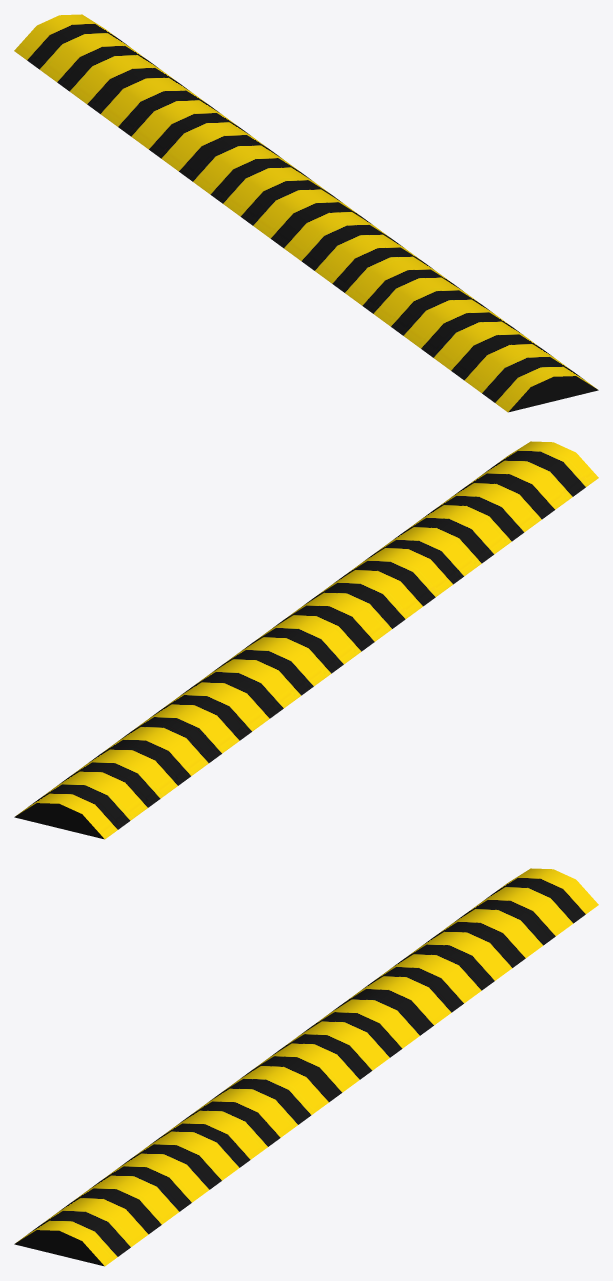
File: Speed Breaker1.fbx
3 renders of one model, top to bottom at view 1: azimuth 30°, elevation 25°; view 2: azimuth 150°, elevation 25°; view 3: azimuth 330°, elevation 25°, orthographic.
Visible parts, largest first — view 1: Speed_Breaker1; view 2: Speed_Breaker1; view 3: Speed_Breaker1.
Part boxes in pixels (bbox=[...]): Speed_Breaker1: bbox=[14, 14, 598, 412]; Speed_Breaker1: bbox=[14, 441, 598, 839]; Speed_Breaker1: bbox=[14, 868, 598, 1266].
Size of the model in its own units: 10 by 2.58 by 94.
